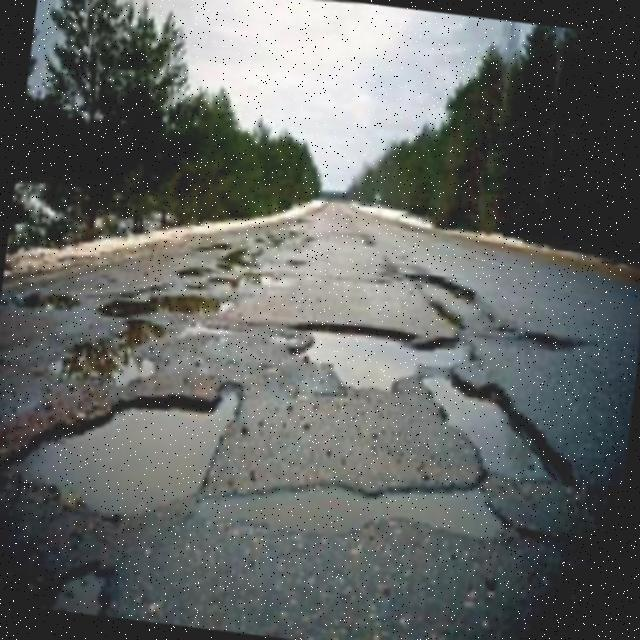Pothole: (2, 381, 245, 518), (193, 484, 512, 543), (421, 375, 574, 486), (403, 276, 598, 347), (290, 321, 464, 390), (49, 561, 113, 616)
